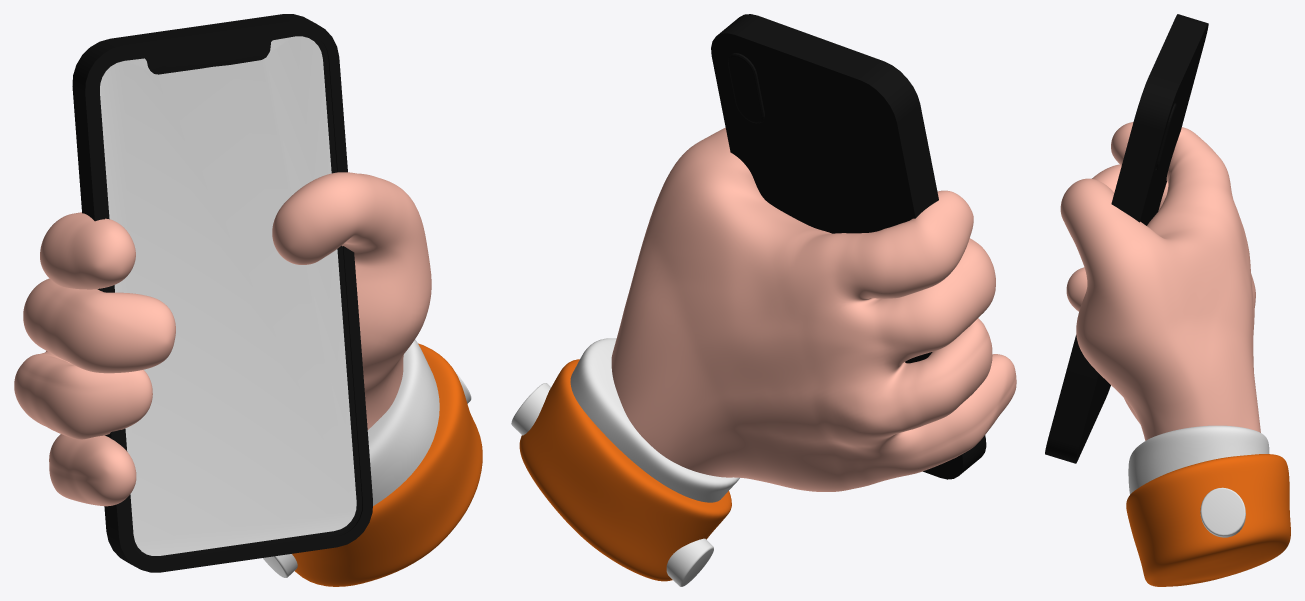
Rendered from phonehand.glb.
3 renders of one model, left to right at view 1: azimuth 30°, elevation 25°; view 2: azimuth 150°, elevation 25°; view 3: azimuth 270°, elevation 25°, orthographic. The views are drawn at different scales.
Parts seen in each view (by area): view 1: HP_primitive1, hand.016, HP_primitive0, SubTool-2-14940015.016, kemeja.016, Cylinder.016; view 2: hand.016, HP_primitive0, SubTool-2-14940015.016, kemeja.016, Cylinder.016; view 3: hand.016, SubTool-2-14940015.016, HP_primitive0, kemeja.016, Cylinder.016.
Boxes of the visible parts, box(x1,y1,x2,y2) form: HP_primitive1: box(100, 36, 356, 555); hand.016: box(14, 172, 431, 506); HP_primitive0: box(72, 14, 372, 572); SubTool-2-14940015.016: box(292, 343, 482, 586); kemeja.016: box(367, 339, 439, 505); Cylinder.016: box(263, 372, 471, 577); hand.016: box(611, 127, 1016, 491); HP_primitive0: box(711, 14, 986, 479); SubTool-2-14940015.016: box(519, 359, 731, 581); kemeja.016: box(570, 338, 739, 502); Cylinder.016: box(511, 383, 713, 586); hand.016: box(1060, 122, 1260, 440); SubTool-2-14940015.016: box(1126, 454, 1290, 586); HP_primitive0: box(1045, 14, 1208, 463); kemeja.016: box(1128, 425, 1269, 494); Cylinder.016: box(1200, 487, 1245, 537).
Size of the model in its own units: 6.27 by 7.7 by 3.56.
